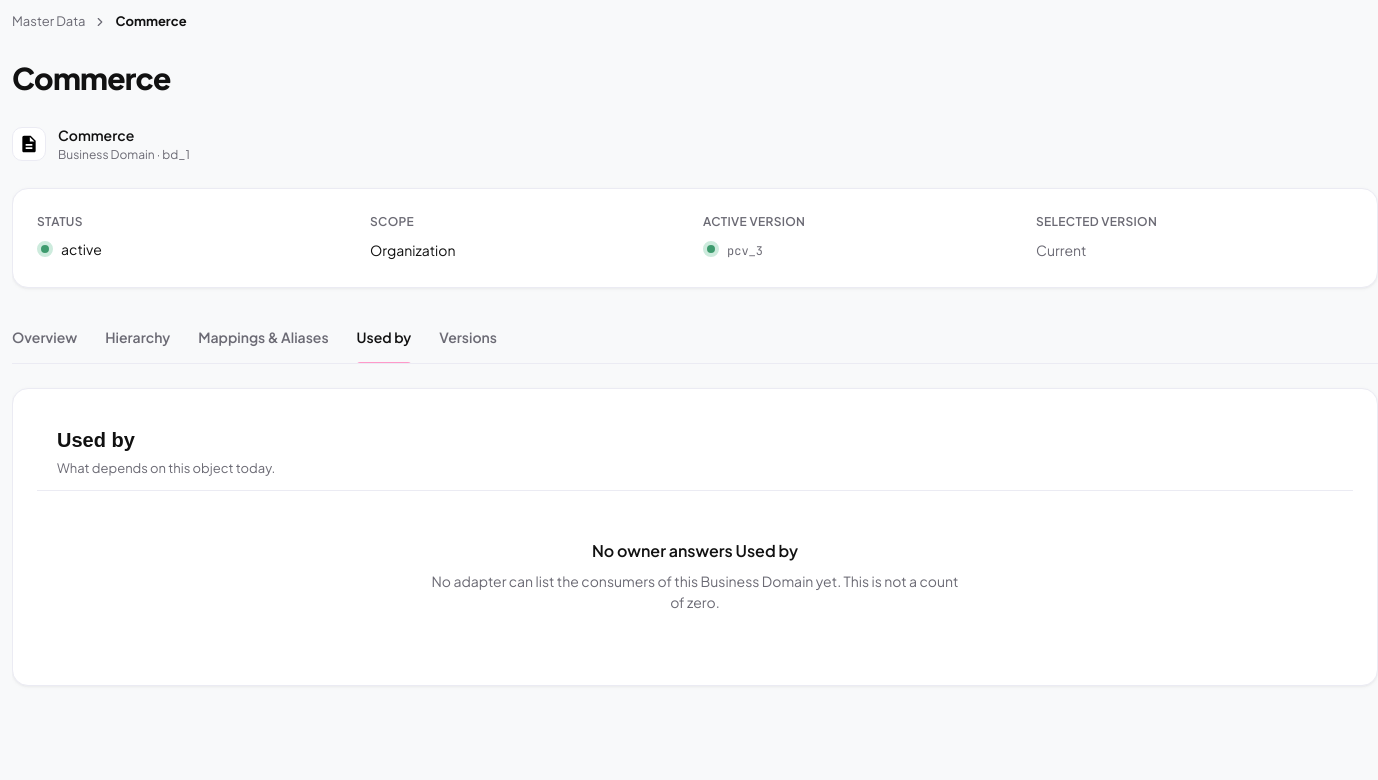
Test case: the shared governed-object workbench › keeps Used by, Versions and Evidence three different answers
expect the text "No owner answers Used by" is shown: met, box [592,539,798,563]
Click the link "Versions".
click(468, 338)  # box [439,312,497,364]
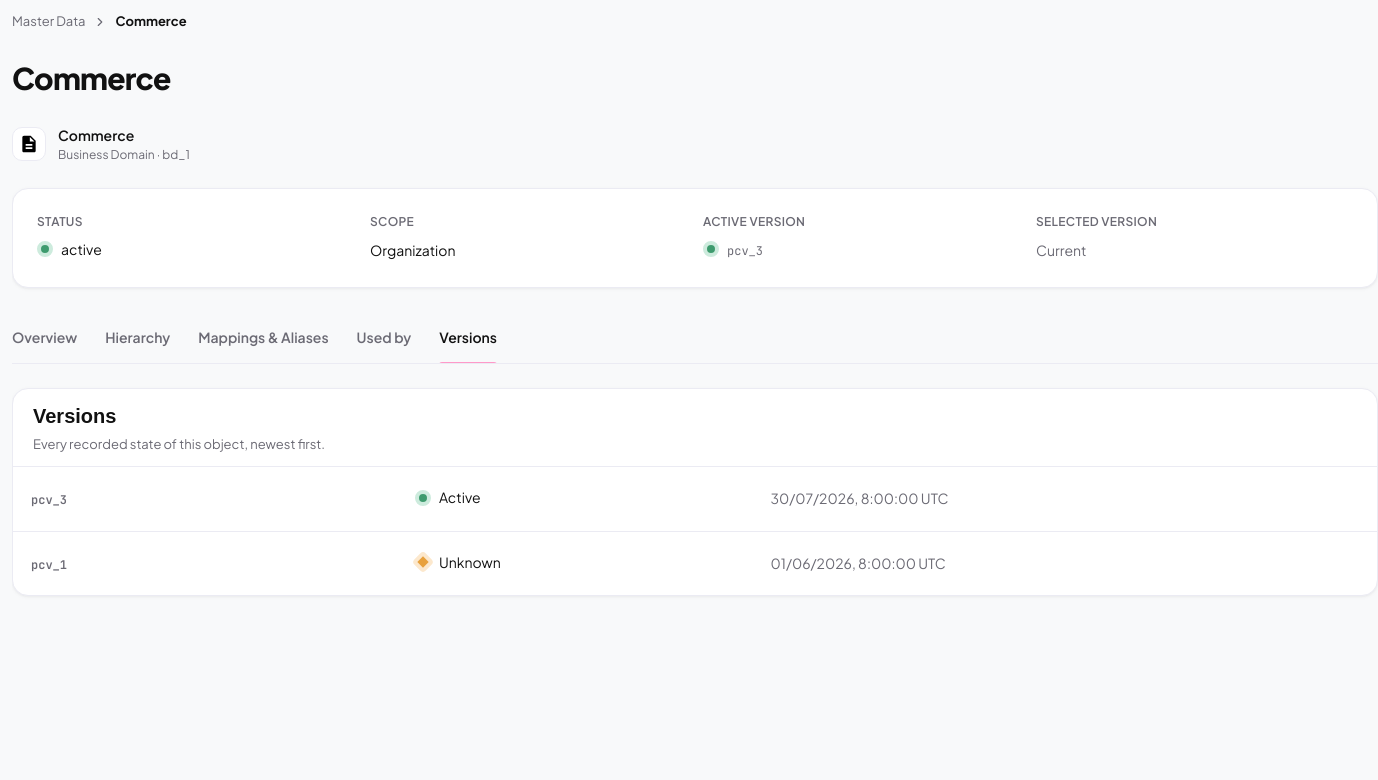
expect the link "pcv_1" is shown: met, box [31,554,67,572]
